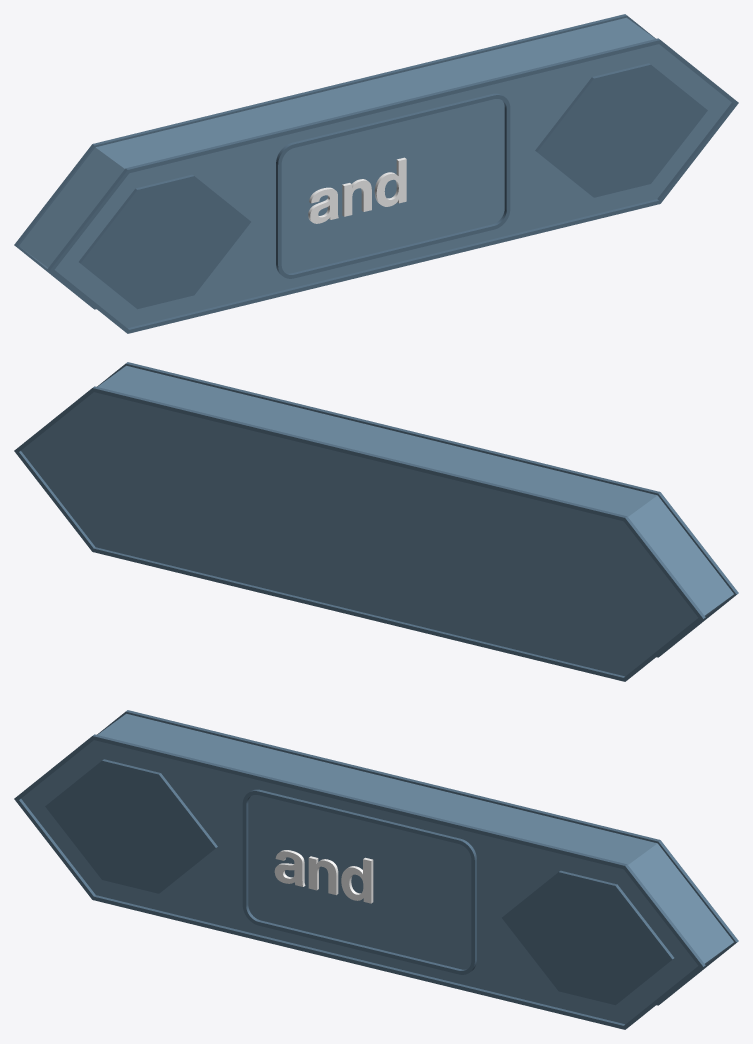
File: logic_operation.gltf
3 renders of one model, top to bottom at view 1: azimuth 30°, elevation 25°; view 2: azimuth 150°, elevation 25°; view 3: azimuth 330°, elevation 25°, orthographic.
Visible parts, largest first — view 1: Extrude.8, Extrude.1, Extrude, Extrude.7, Extrude.5, Extrude.6, Extrude.2, Extrude.4, Extrude.3; view 2: Extrude.8, Extrude.6, Extrude.7; view 3: Extrude.8, Extrude, Extrude.1, Extrude.7, Extrude.5, Extrude.6, Extrude.2, Extrude.4, Extrude.3.
Part boxes in pixels (box(x1,y1,x2,y2)): Extrude.8: box(19, 17, 731, 328); Extrude.1: box(79, 174, 250, 309); Extrude: box(535, 63, 707, 197); Extrude.7: box(47, 38, 738, 333); Extrude.5: box(276, 93, 510, 278); Extrude.6: box(14, 14, 655, 309); Extrude.2: box(374, 157, 406, 206); Extrude.4: box(308, 187, 338, 223); Extrude.3: box(342, 179, 371, 216); Extrude.8: box(21, 365, 733, 676); Extrude.6: box(14, 386, 705, 681); Extrude.7: box(97, 362, 738, 657); Extrude.8: box(21, 713, 733, 1024); Extrude: box(502, 870, 674, 1005); Extrude.1: box(45, 759, 217, 893); Extrude.7: box(14, 734, 705, 1029); Extrude.5: box(242, 789, 476, 974); Extrude.6: box(97, 710, 738, 1005); Extrude.2: box(341, 857, 373, 903); Extrude.4: box(274, 850, 305, 886); Extrude.3: box(308, 856, 338, 895).
Size of the model in its own units: 0.8832 by 0.2007 by 0.0787.
